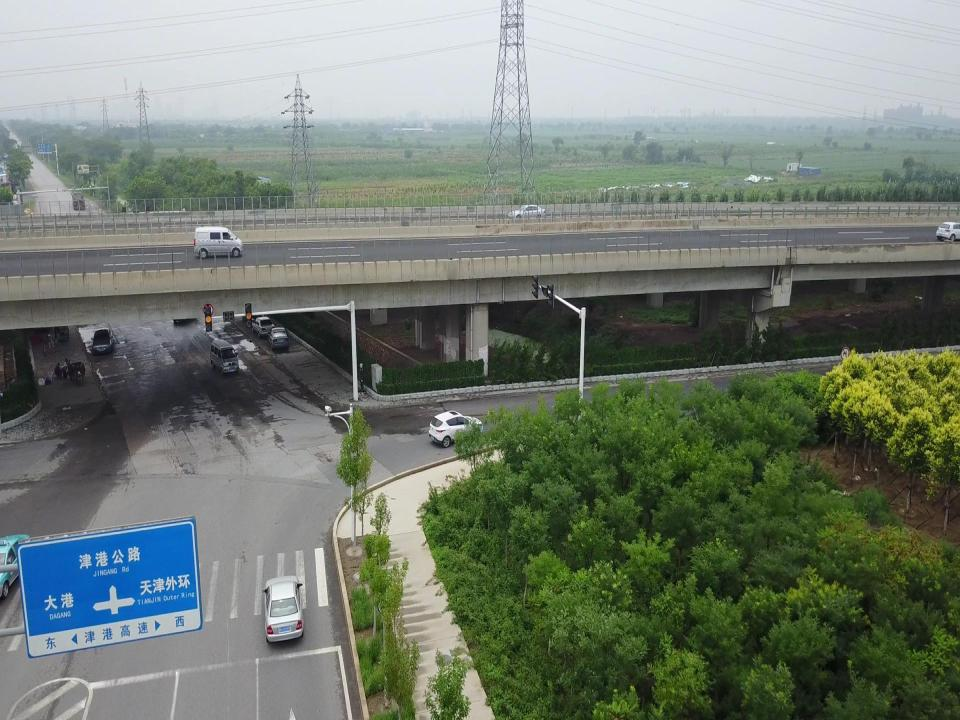bus: (210, 341, 238, 373)
car: (262, 577, 302, 642), (0, 533, 30, 598), (424, 411, 484, 443), (93, 324, 113, 358), (509, 203, 545, 220), (266, 325, 288, 348), (937, 219, 960, 240), (252, 317, 272, 336)
truck: (70, 189, 86, 214)
van: (194, 227, 244, 258)
